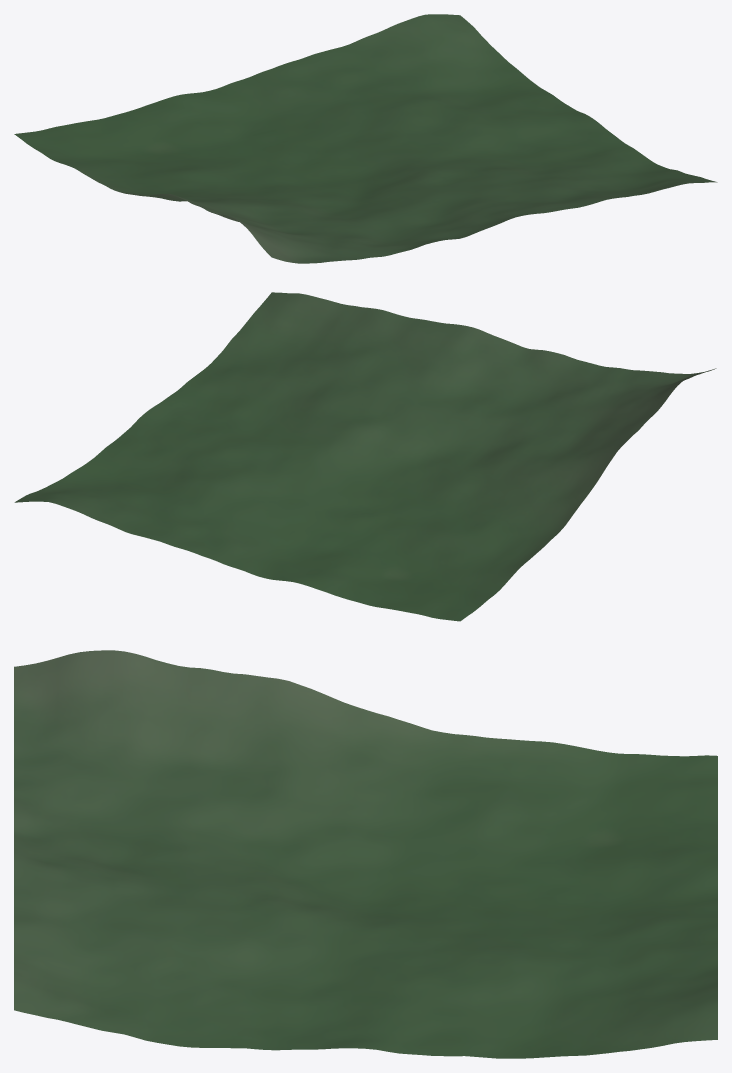
File: chunk_2_1.obj
The picture shows the model from 3 angles, top to bottom: view 1: azimuth 30°, elevation 25°; view 2: azimuth 150°, elevation 25°; view 3: azimuth 270°, elevation 25°; orthographic projection. The views are drawn at different scales.
Parts seen in each view (by area): view 1: chunk_2_1.obj; view 2: chunk_2_1.obj; view 3: chunk_2_1.obj.
Part boxes in pixels (<box>): chunk_2_1.obj: <box>14,14,717,263</box>; chunk_2_1.obj: <box>14,292,716,621</box>; chunk_2_1.obj: <box>14,650,717,1058</box>.
Bounding box in the file's own units: 64 × 12.01 × 64.
Materials: 1 (1 with a texture image).
